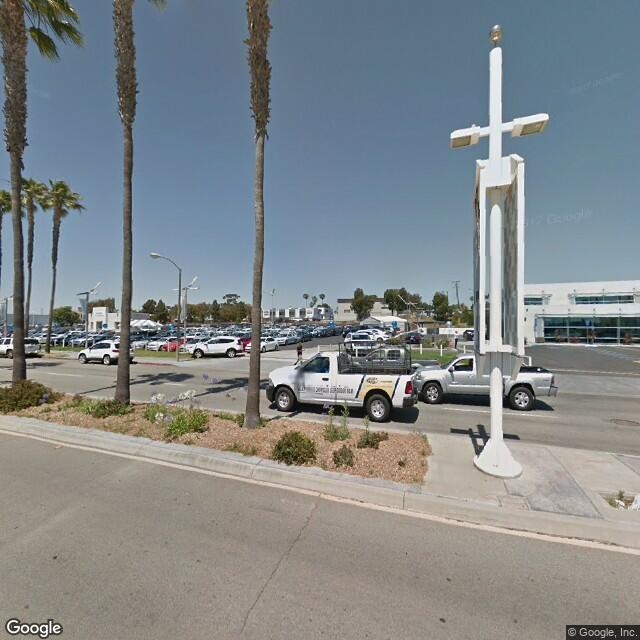litter: (627, 496, 640, 510), (611, 500, 630, 508), (55, 443, 66, 450)
